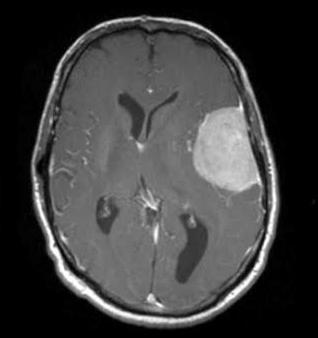Tumour-Meningioma: (194, 95, 272, 210)
